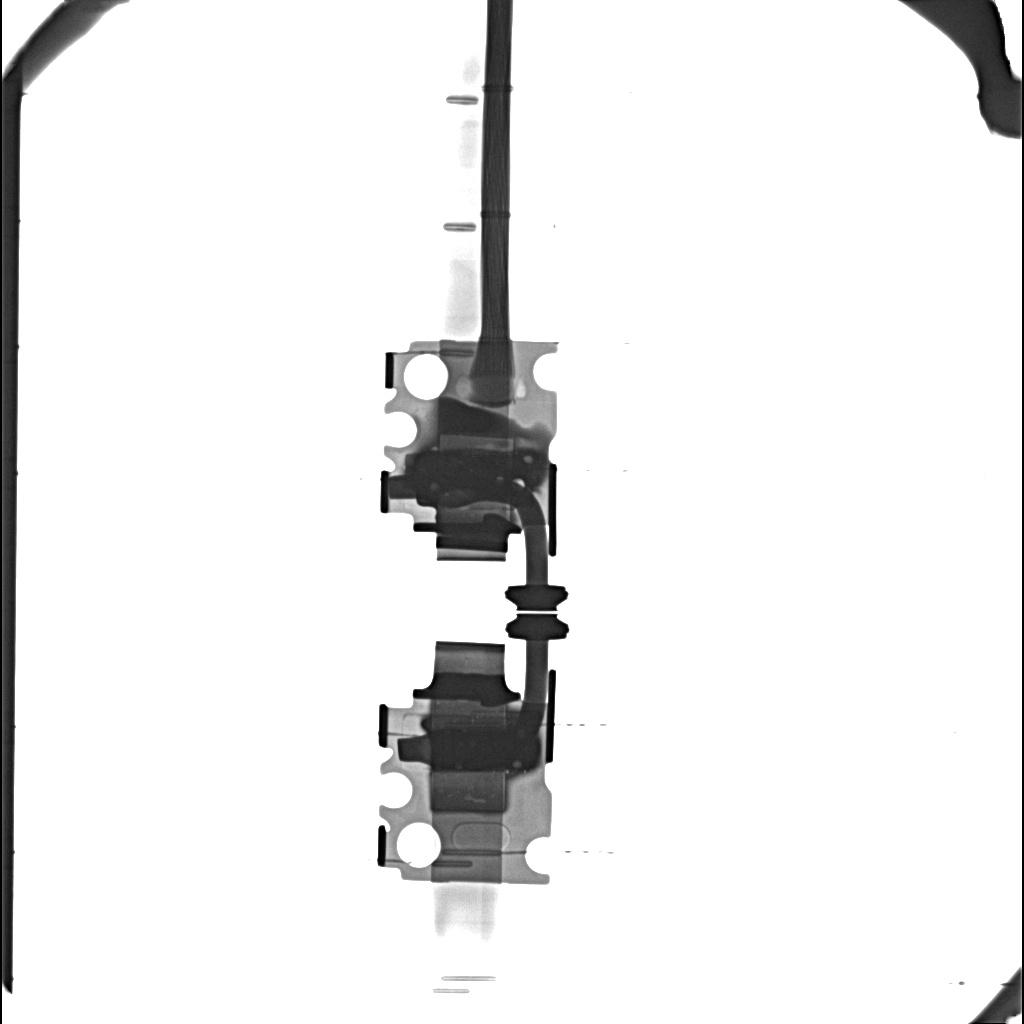defect: (415, 450, 540, 499), (430, 727, 538, 770), (429, 774, 508, 813), (438, 432, 516, 448)
